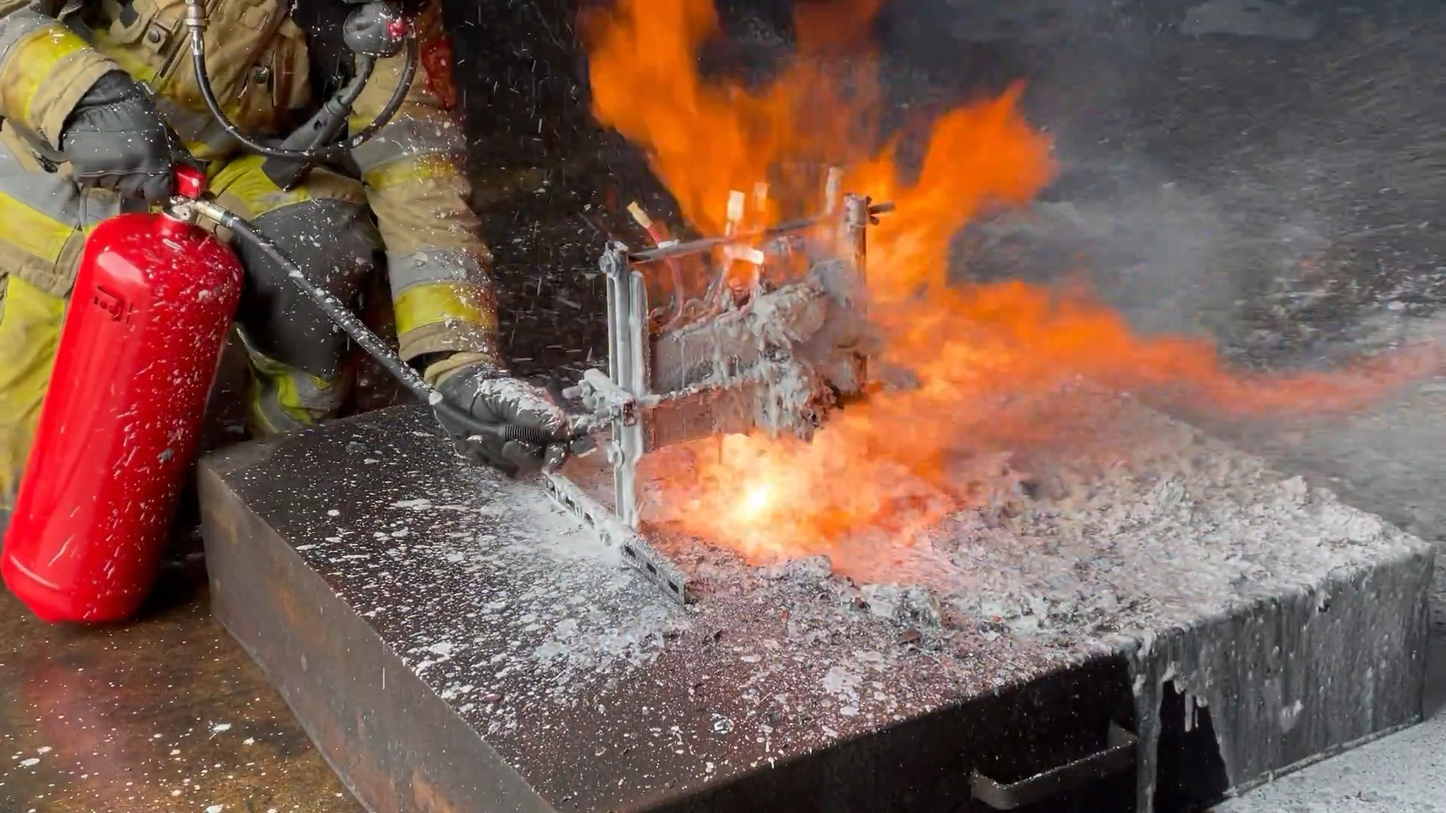fire: (579, 0, 1445, 586)
